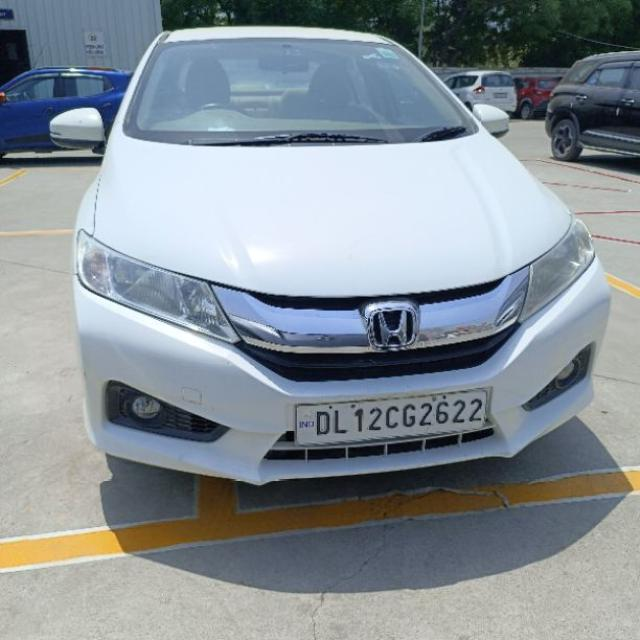license_plate: (292, 384, 492, 448)
